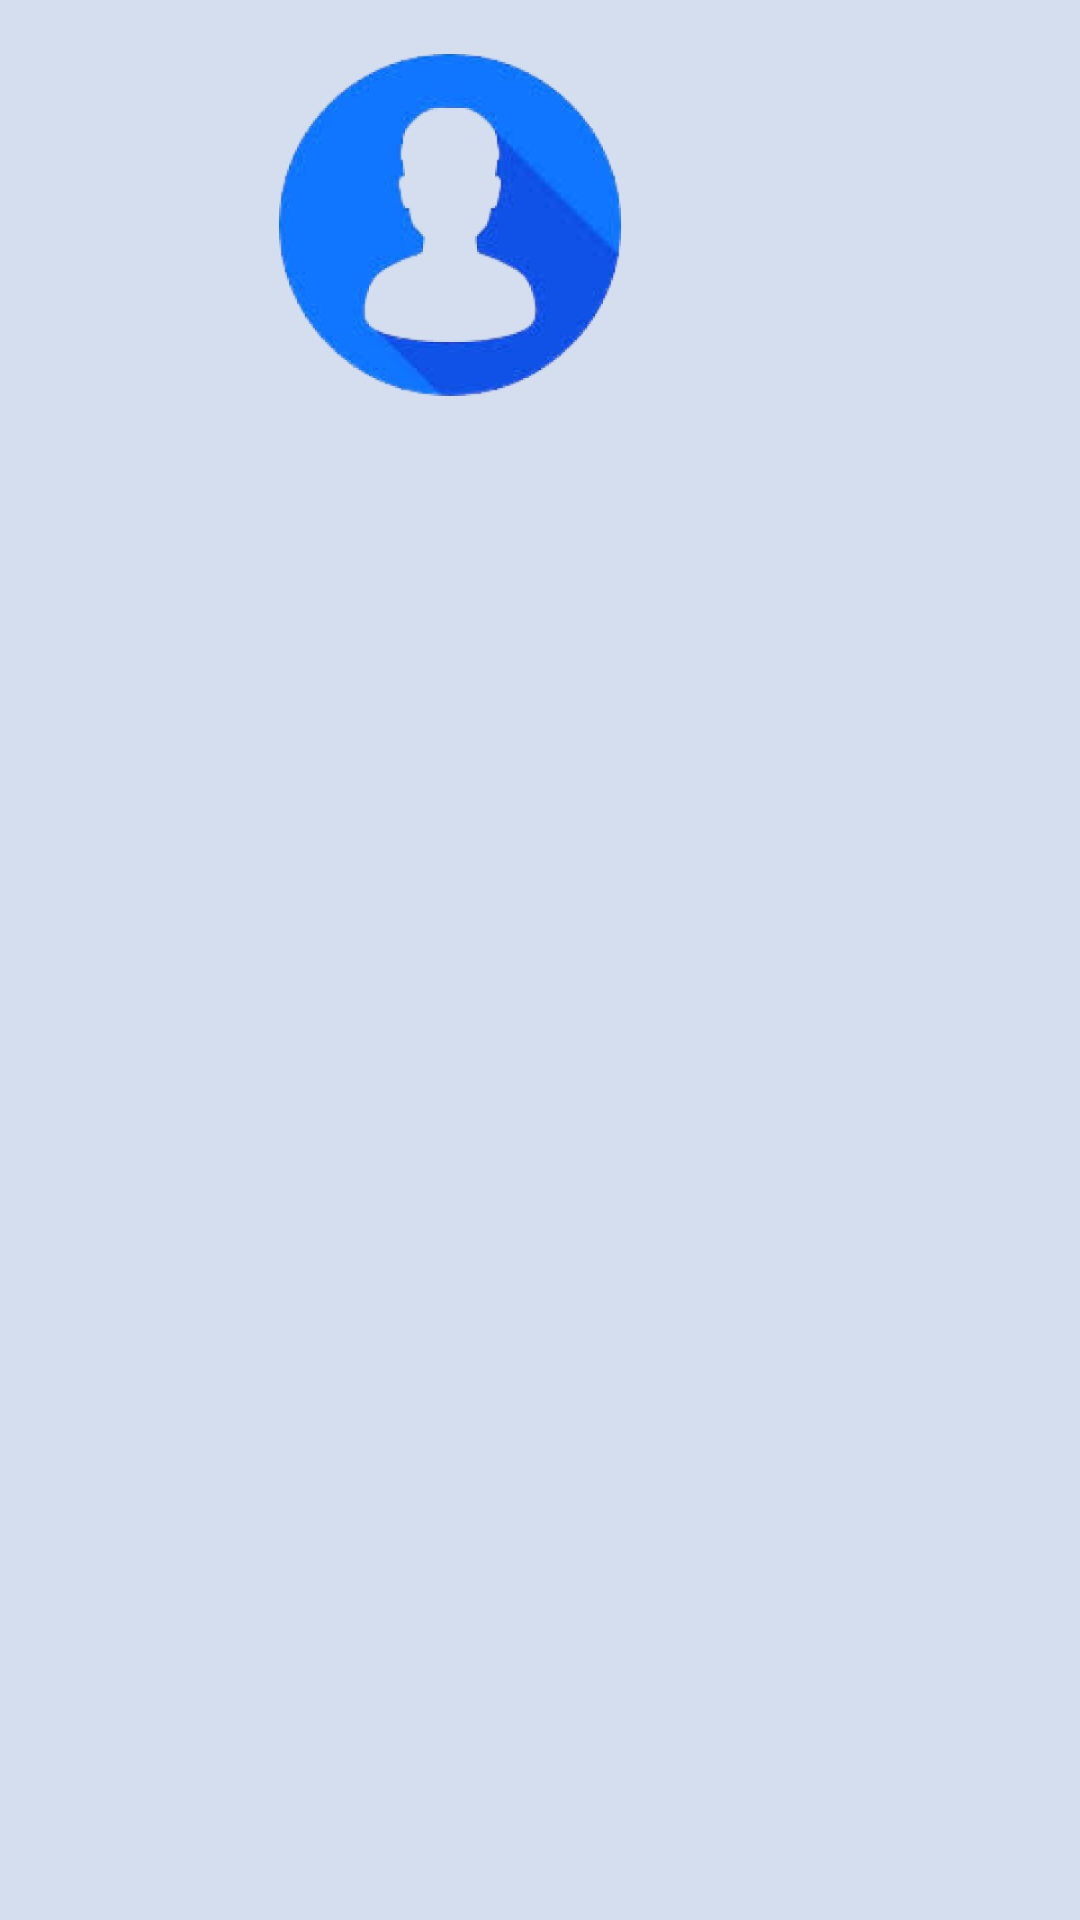

Screen size 1080 x 1920. Icon name, then its center in pixels as (x,y):
headerimage: (450,225)
